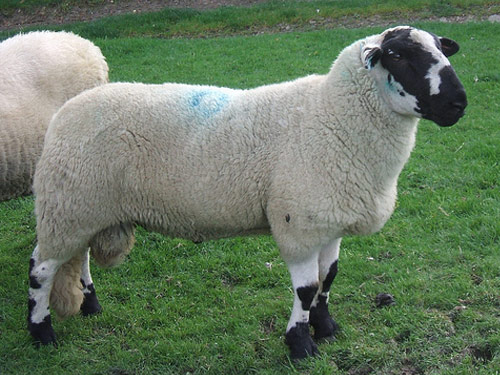koyun: (28, 25, 463, 355)
